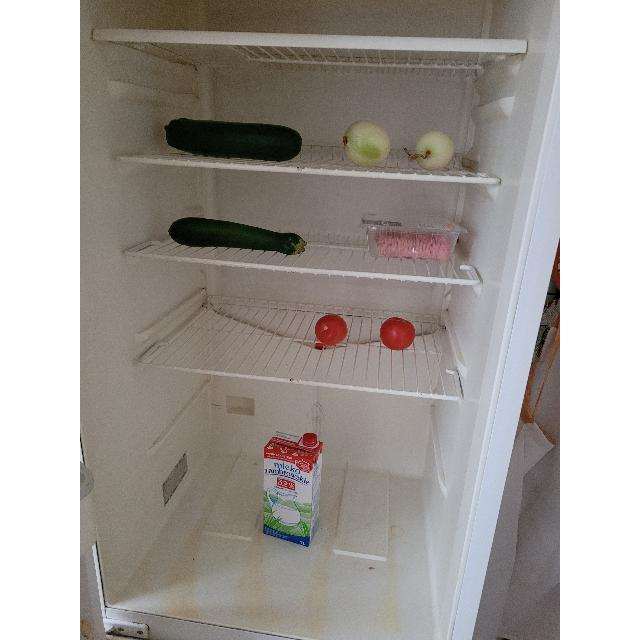meat: (375, 233, 451, 261)
milk: (264, 429, 324, 547)
onion: (342, 120, 392, 168), (413, 130, 455, 170)
tomato: (379, 316, 416, 350), (315, 313, 349, 347)
zucchini: (163, 118, 303, 162), (168, 218, 306, 255)
